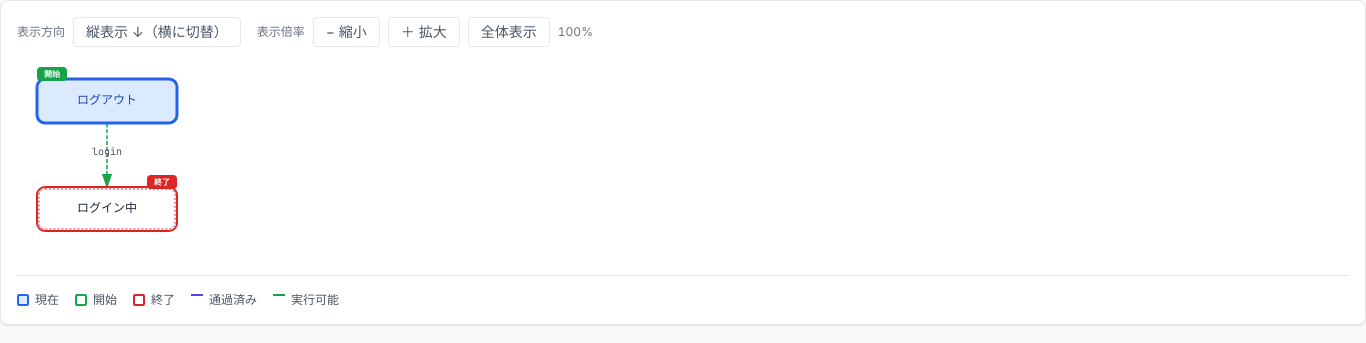
Test: StateDiagram zoom controls (SOT-948) › 縮小 decreases the rendered diagram size
The image size is (1366, 343).
Click the button labelled "− 縮小".
click(346, 32)  # box [313,17,380,47]
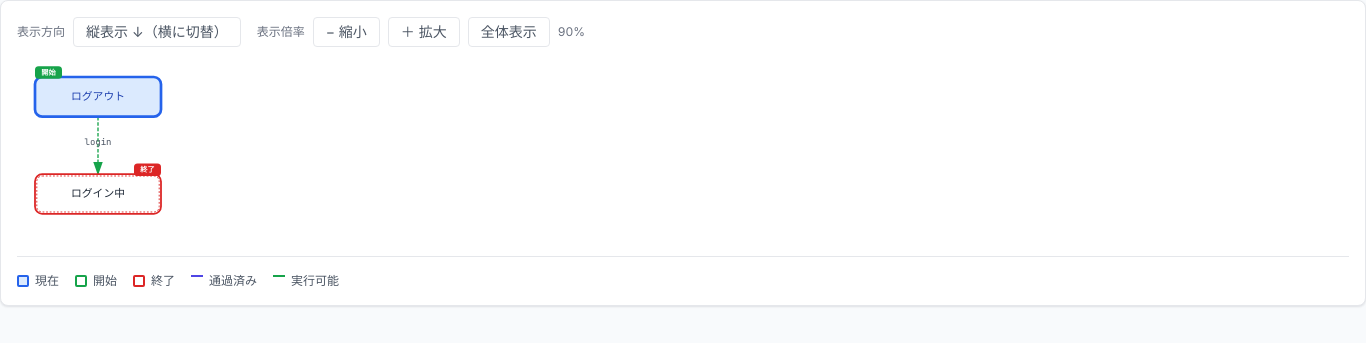
Expected: the text "90%" is shown, [558,24,585,40]
